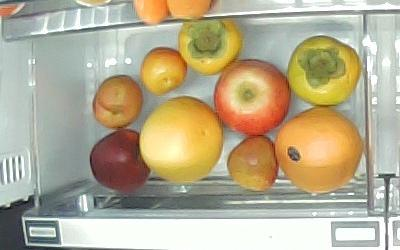apple: (214, 58, 293, 137), (89, 130, 149, 195)
grapefruit: (274, 107, 363, 194), (139, 97, 224, 185)
persimmon: (284, 35, 360, 106), (178, 18, 242, 76)
prune: (229, 134, 279, 192), (91, 74, 142, 130), (140, 46, 187, 95)
